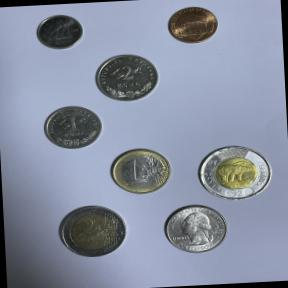coin: (192, 141, 278, 203), (53, 202, 131, 264), (90, 51, 163, 106), (160, 201, 231, 257), (106, 145, 176, 198), (163, 3, 224, 49), (33, 10, 88, 55)
